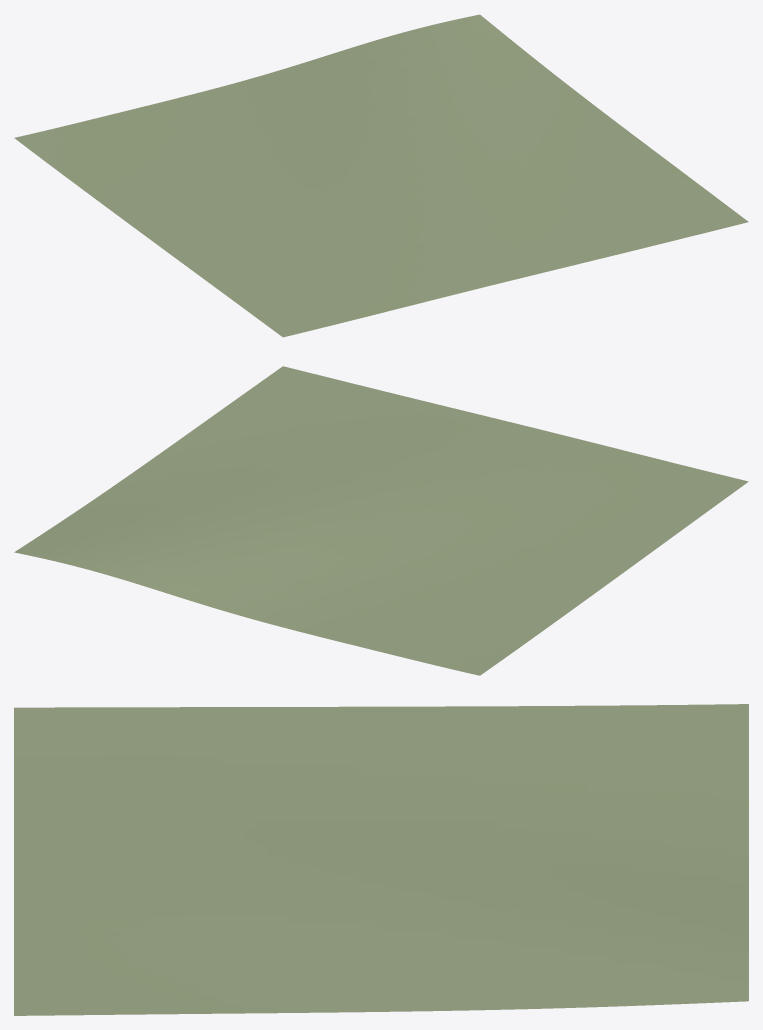
Rendered from desert-7-11.glb.
3 renders of one model, top to bottom at view 1: azimuth 30°, elevation 25°; view 2: azimuth 150°, elevation 25°; view 3: azimuth 270°, elevation 25°, orthographic. The views are drawn at different scales.
Visible parts, largest first — view 1: desert-7-11; view 2: desert-7-11; view 3: desert-7-11.
Boxes of the visible parts, x1,y1,x2,y2 form: desert-7-11: (14, 14, 748, 337); desert-7-11: (14, 366, 748, 675); desert-7-11: (14, 704, 748, 1015).
Size of the model in its own units: 512 by 14.15 by 512.
